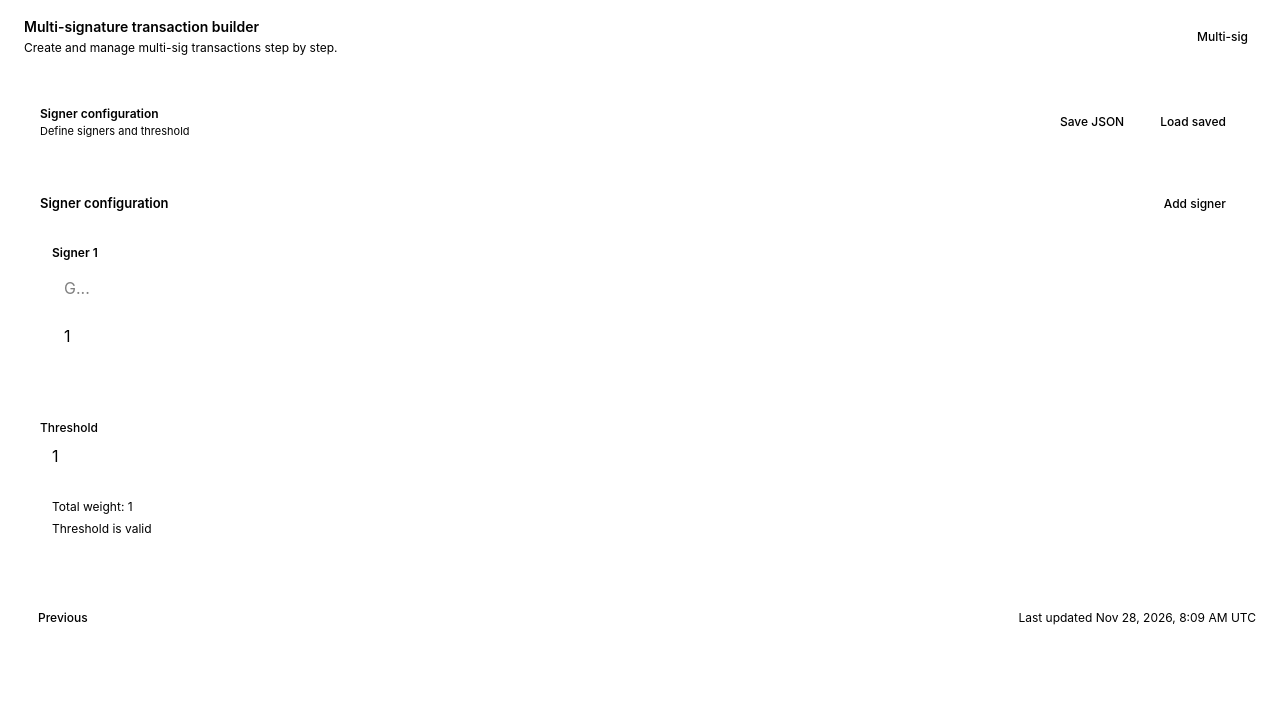
MultiSigTransactionBuilder › schema versioning and migration (#900) › migrates legacy saved state with no schemaVersion field instead of wiping it
Click the button "Load saved" at (1193, 122), box [1146, 106, 1240, 138]
(page scrolled)
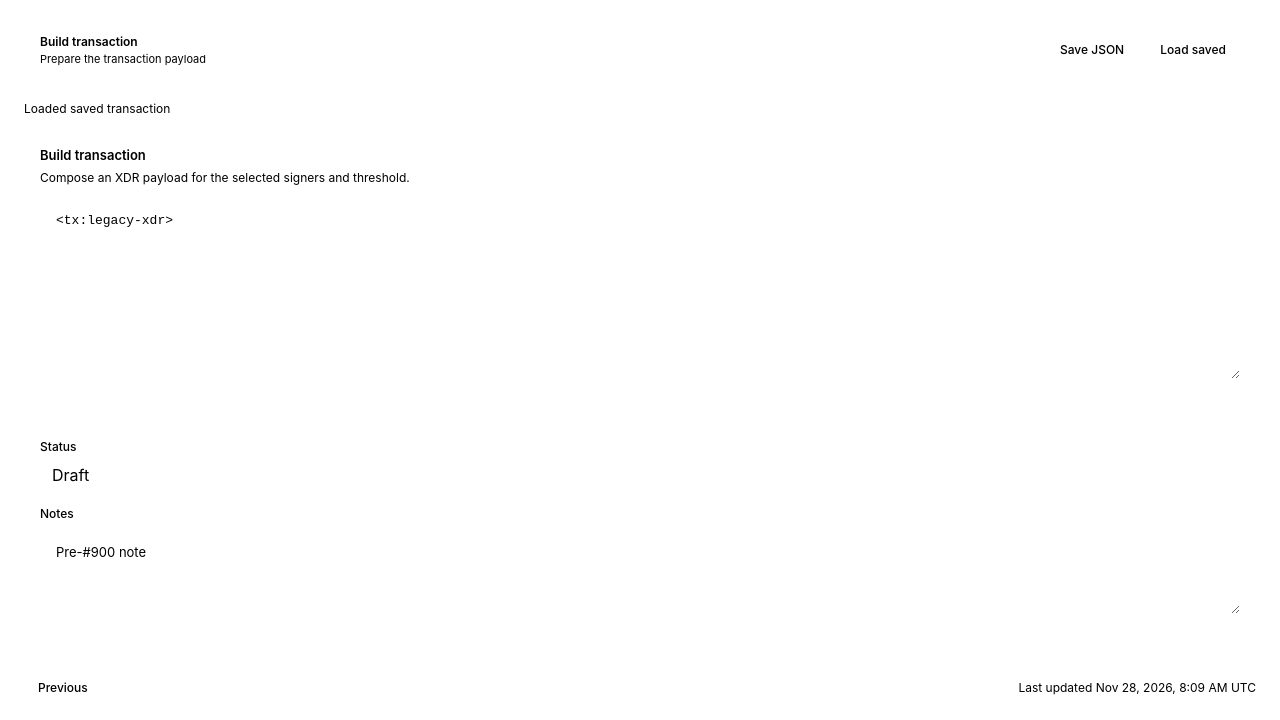
expect the text "Loaded saved transaction" is shown: met, box [24, 100, 170, 116]
expect the text box showing "<tx:legacy-xdr>" is shown: met, box [40, 199, 1240, 379]
Click the button "Previous" at (63, 688), box [24, 672, 102, 704]
(page scrolled)
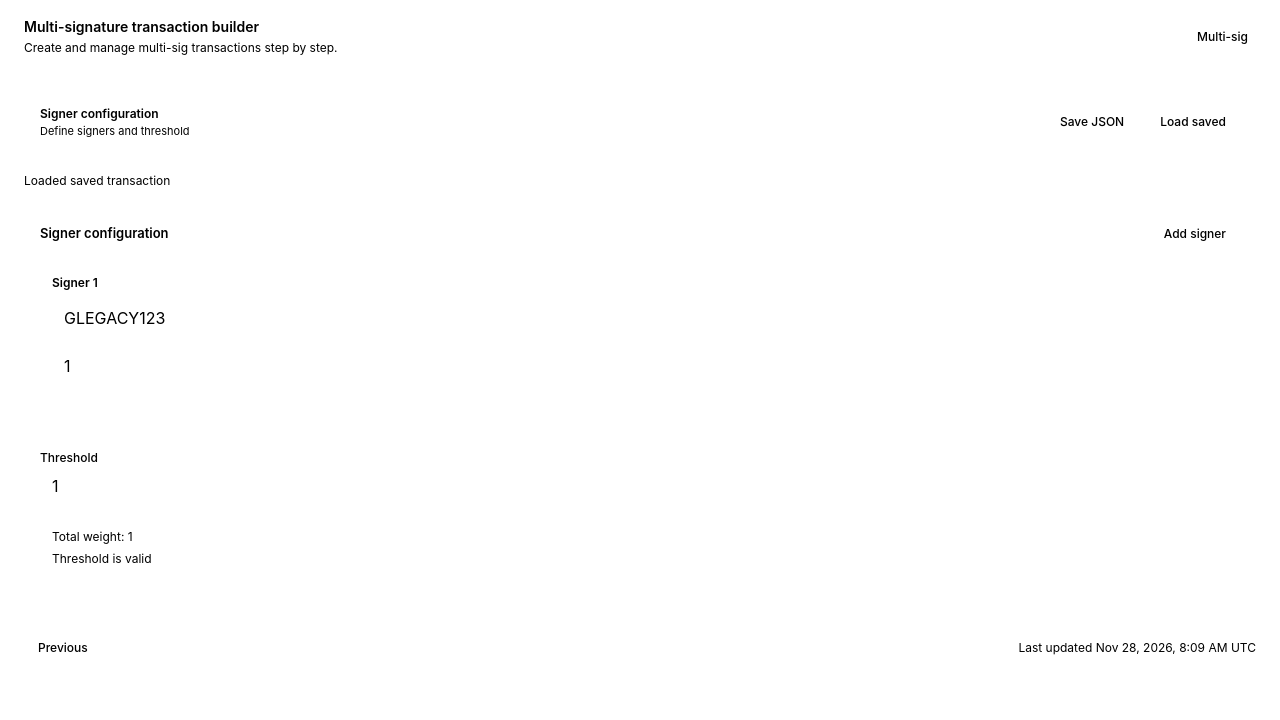
expect the field showing "GLEGACY123" is shown: met, box [52, 300, 1228, 336]
